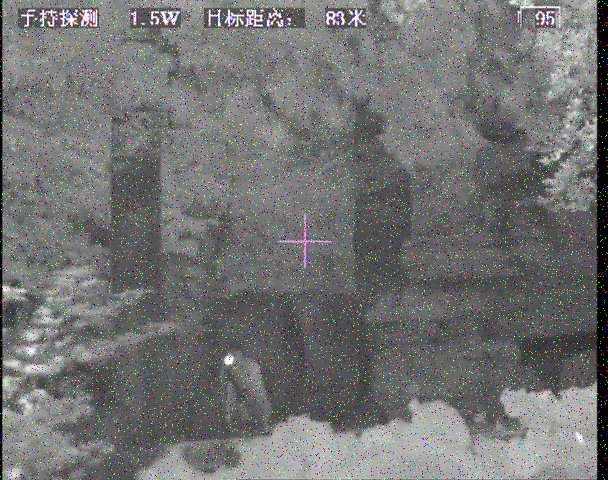my: (224, 354, 240, 365)
